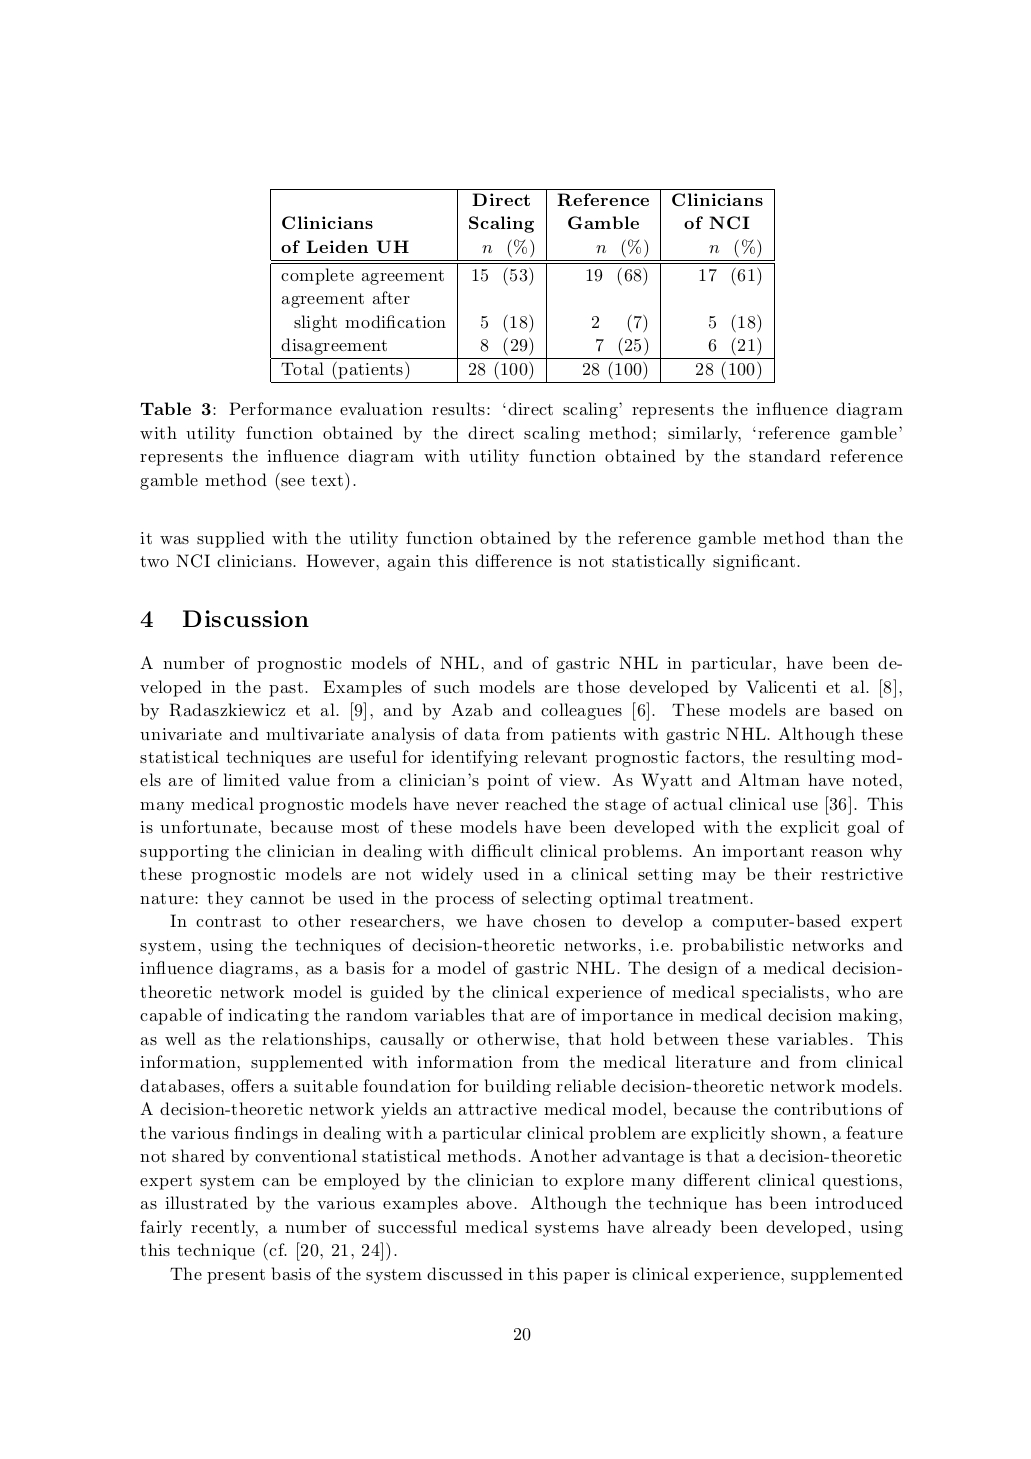Table: (270, 189, 774, 383)
